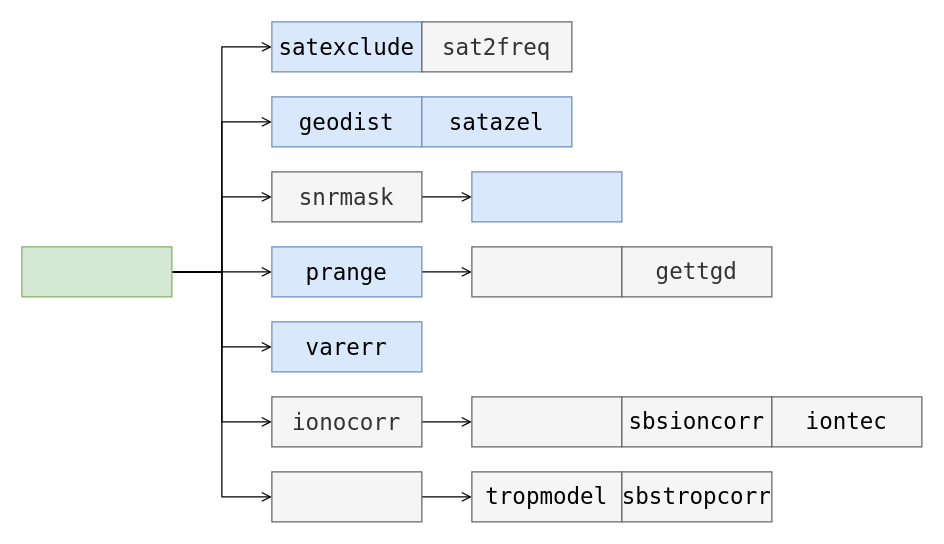
This 944x544 diagram has some shape labels left out. Here are the shapes that lost their labels. From the top down, the box of each, then its label:
(471, 171, 622, 222): testsnr
(21, 246, 172, 297): rescode
(471, 246, 622, 297): getseleph
(471, 396, 622, 447): ionmodel
(271, 471, 422, 522): tropcorr
